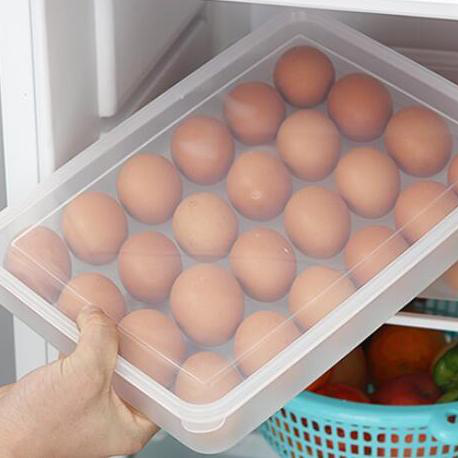egg: (7, 44, 458, 400)
